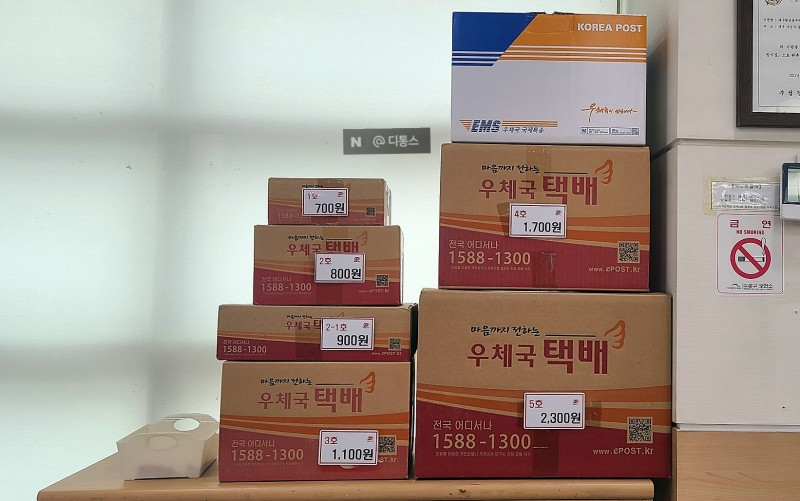undamaged: (414, 289, 673, 478), (439, 144, 650, 298), (450, 11, 650, 146), (218, 364, 409, 485), (252, 224, 403, 307), (216, 299, 417, 359), (269, 177, 385, 228)
